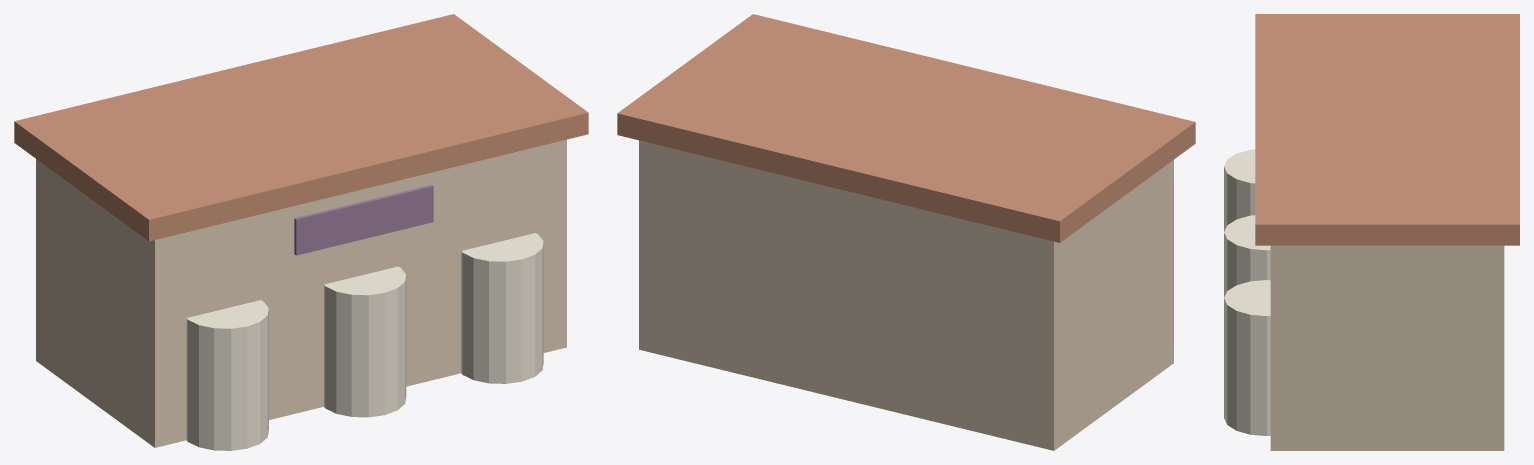
File: Casino.glb
The picture shows the model from 3 angles, left to right: view 1: azimuth 30°, elevation 25°; view 2: azimuth 150°, elevation 25°; view 3: azimuth 270°, elevation 25°; orthographic projection. The views are drawn at different scales.
Visible parts, largest first — view 1: nervix_casino, nervix_casino_roof, nervix_casino_arch_0, nervix_casino_arch_4, nervix_casino_arch_-4, nervix_casino_sign; view 2: nervix_casino, nervix_casino_roof; view 3: nervix_casino_roof, nervix_casino, nervix_casino_arch_4, nervix_casino_arch_0, nervix_casino_arch_-4.
Boxes of the visible parts, bbox=[...] form: nervix_casino: bbox=[36, 139, 566, 447]; nervix_casino_roof: bbox=[14, 14, 588, 241]; nervix_casino_arch_0: bbox=[324, 266, 406, 417]; nervix_casino_arch_4: bbox=[461, 233, 543, 383]; nervix_casino_arch_-4: bbox=[186, 300, 268, 450]; nervix_casino_sign: bbox=[294, 185, 433, 255]; nervix_casino: bbox=[639, 140, 1173, 450]; nervix_casino_roof: bbox=[617, 14, 1195, 242]; nervix_casino_roof: bbox=[1255, 14, 1519, 245]; nervix_casino: bbox=[1270, 245, 1504, 450]; nervix_casino_arch_4: bbox=[1224, 280, 1270, 435]; nervix_casino_arch_0: bbox=[1224, 215, 1270, 297]; nervix_casino_arch_-4: bbox=[1224, 149, 1255, 231].
Bounding box in the file's own units: 12.8 × 6.6 × 7.6.
